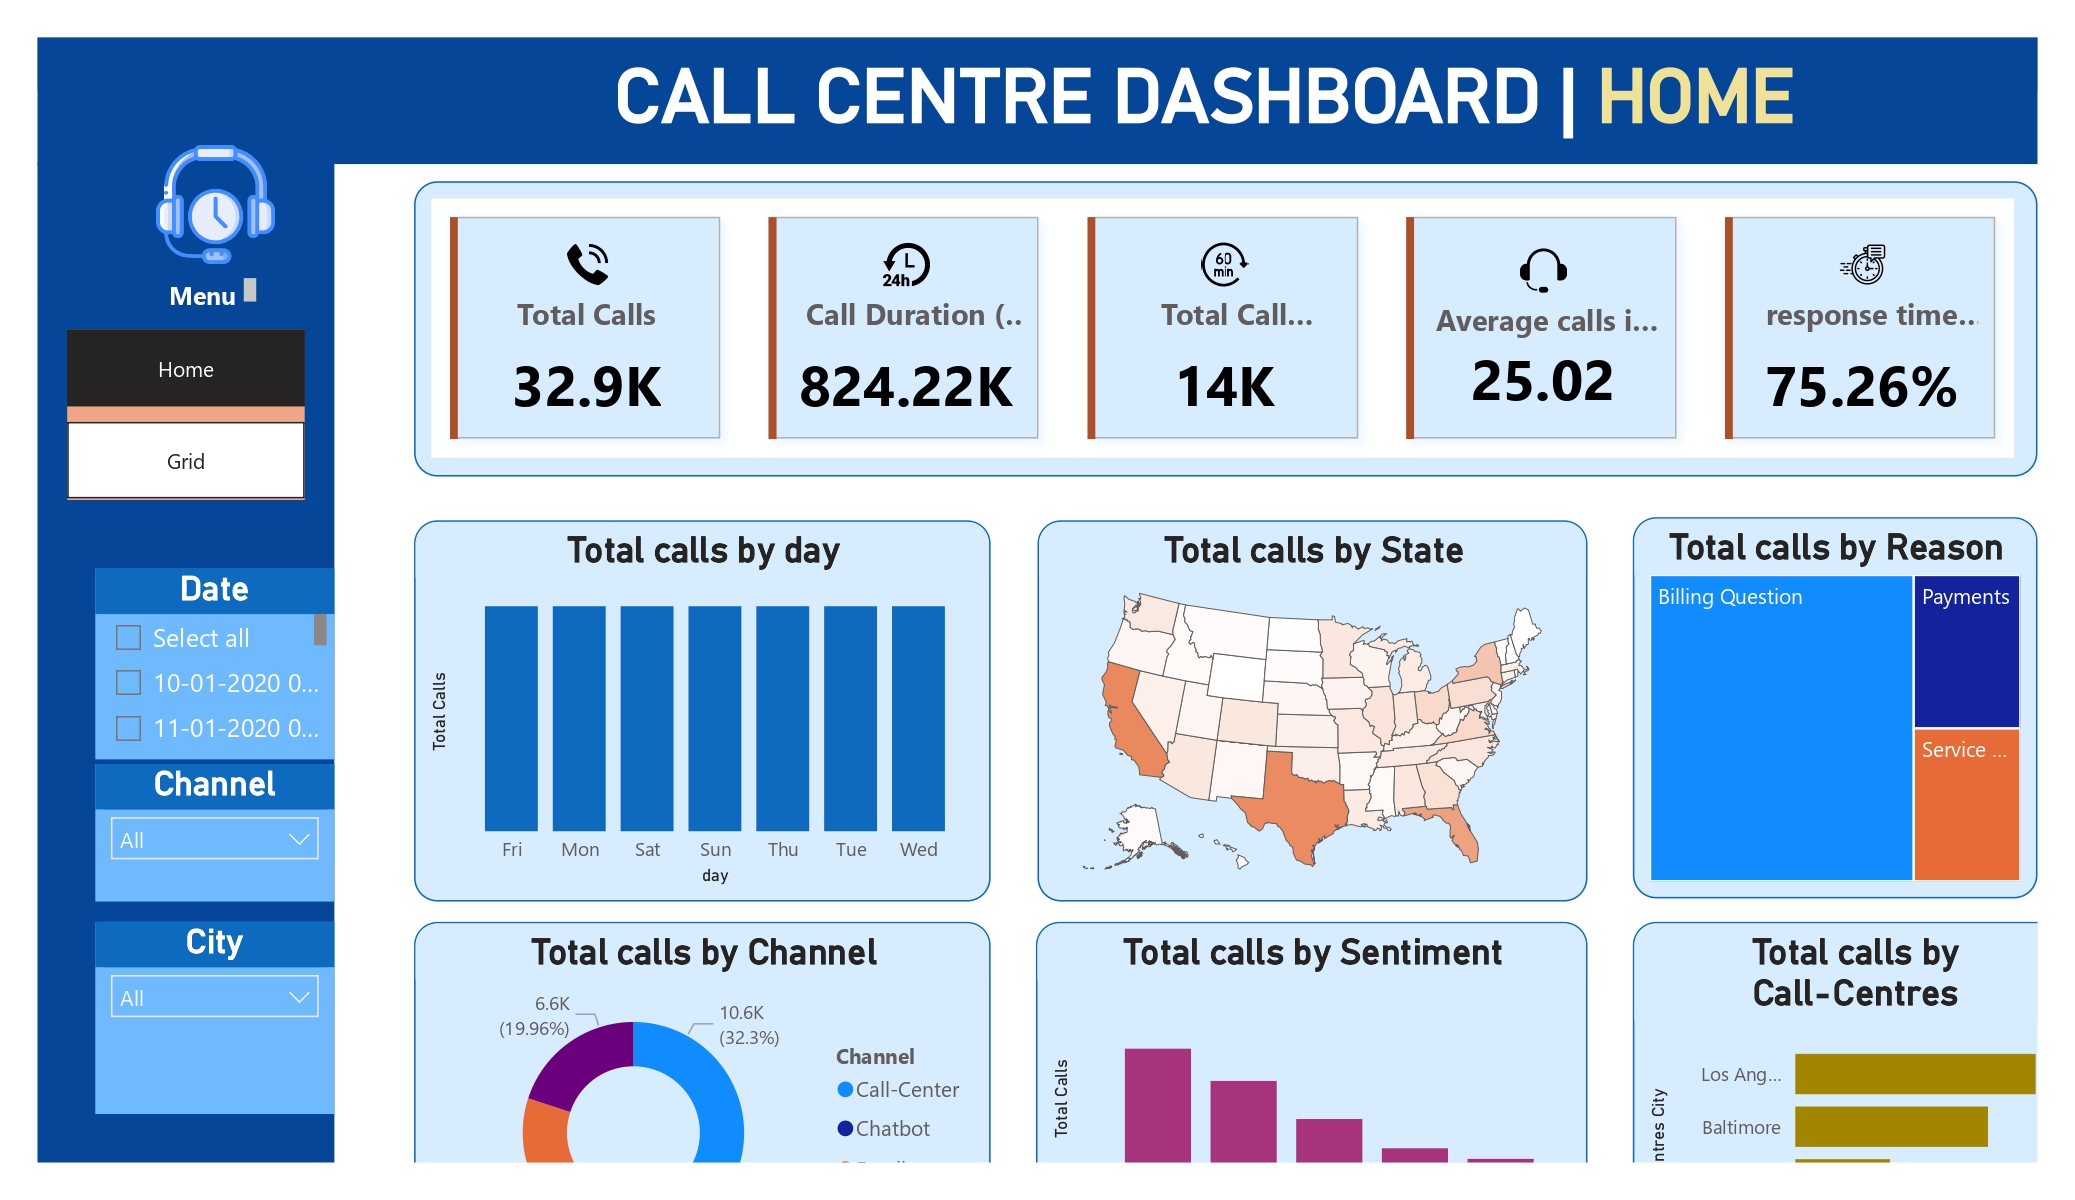

The dashboard page shown, as its layout file describes it:
{"tool":"powerbi","page":{"name":"Home","canvas":[1280,720],"ordinal":0},"visuals":[{"type":"shape","box":[0,0,1920.7,81.2],"z":0},{"type":"shape","box":[0,80.5,190.2,799],"z":1000},{"type":"cardVisual","fields":{"Data":["Call Center_Call Center.total calls","Sum(Call Center_Call Center.Call Duration In Minutes)","Call Center_Call Center.Total call duration (hrs)","Call Center_Call Center.Average calls in minutes","Call Center_Call Center.response time percentage"]},"box":[241.5,92.2,1039,188.8],"z":2000},{"type":"textbox","box":[326.3,4.4,842.9,71.7],"z":3000},{"type":"columnChart","title":"Total calls by day","fields":{"Category":["date table.day"],"Y":["Call Center_Call Center.total calls"]},"box":[241.5,308.8,368.8,244.4],"z":4000},{"type":"shapeMap","title":"Total calls by State","fields":{"Category":["Call Center_Call Center.State"],"Value":["Call Center_Call Center.Total Calls"]},"box":[639.5,308.8,352.7,244.4],"z":5000},{"type":"treemap","title":"Total calls by Reason","fields":{"Values":["Call Center_Call Center.total calls"],"Group":["Call Center_Call Center.Reason"]},"box":[1020.7,307.3,259,243.7],"z":6000},{"type":"donutChart","title":"Total calls by Channel","fields":{"Y":["Call Center_Call Center.total calls"],"Category":["Call Center_Call Center.Channel"]},"box":[241.5,566.3,368.8,245.9],"z":7000},{"type":"columnChart","title":"Total calls by Sentiment","fields":{"Category":["Call Center_Call Center.Sentiment"],"Y":["Call Center_Call Center.total calls"]},"box":[638.8,566.3,353.4,245.9],"z":8000},{"type":"clusteredBarChart","title":"Total calls by Call-Centres ","fields":{"Y":["Call Center_Call Center.total calls"],"Category":["Call Center_Call Center.Call-Centres City"]},"box":[1020.7,566.3,283.2,245.9],"z":9000},{"type":"slicer","title":"Date","fields":{"Values":["date table.Date"]},"box":[36.6,339.5,153.7,122.9],"z":10000},{"type":"slicer","title":"Channel","fields":{"Values":["Call Center_Call Center.Channel"]},"box":[37,465.3,152.9,87.3],"z":11000},{"type":"slicer","title":"City","fields":{"Values":["Call Center_Call Center.City"]},"box":[37,566.1,152.9,122.6],"z":12000},{"type":"image","box":[37,63.8,152.9,85.7],"z":13000},{"type":"pageNavigator","box":[19,187.3,152.2,108.3],"z":14000},{"type":"textbox","box":[79,149.3,65.9,27.8],"z":15000}]}

Visuals, with their boxes on the page's 1280x720 design canvas (x1, y1, x2, y2). These are canvas units, not pixel positions in the 2075x1200 screenshot, which may show the page scaled, cropped or inside an application window:
shape: [left=0, top=0, right=1921, bottom=81]
shape: [left=0, top=80, right=190, bottom=880]
cardVisual - Call Center_Call Center.total calls x Sum(Call Center_Call Center.Call Duration In Minutes): [left=242, top=92, right=1280, bottom=281]
textbox: [left=326, top=4, right=1169, bottom=76]
"Total calls by day" columnChart: [left=242, top=309, right=610, bottom=553]
"Total calls by State" shapeMap: [left=640, top=309, right=992, bottom=553]
"Total calls by Reason" treemap: [left=1021, top=307, right=1280, bottom=551]
"Total calls by Channel" donutChart: [left=242, top=566, right=610, bottom=812]
"Total calls by Sentiment" columnChart: [left=639, top=566, right=992, bottom=812]
"Total calls by Call-Centres " clusteredBarChart: [left=1021, top=566, right=1304, bottom=812]
"Date" slicer: [left=37, top=340, right=190, bottom=462]
"Channel" slicer: [left=37, top=465, right=190, bottom=553]
"City" slicer: [left=37, top=566, right=190, bottom=689]
image: [left=37, top=64, right=190, bottom=150]
pageNavigator: [left=19, top=187, right=171, bottom=296]
textbox: [left=79, top=149, right=145, bottom=177]
